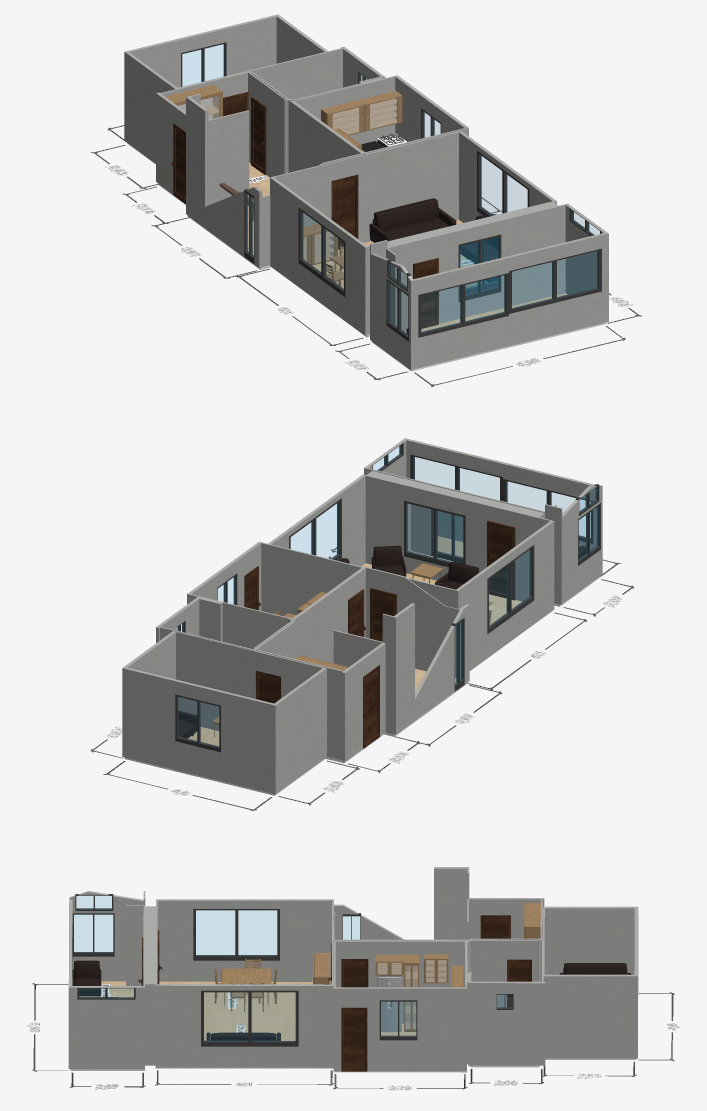
The model's file is zemin.glb.
3 renders of one model, top to bottom at view 1: azimuth 30°, elevation 25°; view 2: azimuth 150°, elevation 25°; view 3: azimuth 270°, elevation 25°, orthographic. The views are drawn at different scales.
Parts seen in each view (by area): view 1: Duvar (×21), wall_022 (×9), door_016 (×4), storage (×3), sofa (×2), styledPlanOverlay, Oda (×2); view 2: Duvar (×25), wall_022 (×9), door_016 (×5), styledPlanOverlay, sofa (×2), Oda (×2); view 3: Duvar (×17), wall_022 (×7), Oda (×3), door_016 (×4), storage (×5), sofa (×3), styledPlanOverlay, refrigerator, table.
Boxes of the visible parts, box(x1,y1,x2,y2) form: Duvar (×21): box(124, 14, 608, 369); wall_022 (×9): box(181, 42, 601, 341); door_016 (×4): box(171, 97, 439, 328); storage (×3): box(165, 85, 402, 265); sofa (×2): box(369, 198, 498, 263); styledPlanOverlay: box(90, 125, 642, 387); Oda (×2): box(158, 162, 606, 371); Duvar (×25): box(122, 438, 602, 794); wall_022 (×9): box(175, 454, 600, 752); door_016 (×5): box(255, 520, 515, 748); styledPlanOverlay: box(90, 547, 634, 810); sofa (×2): box(371, 545, 478, 589); Oda (×2): box(124, 563, 552, 795); Duvar (×17): box(68, 867, 638, 1071); wall_022 (×7): box(72, 894, 417, 1046); Oda (×3): box(70, 981, 466, 1072); door_016 (×4): box(341, 915, 531, 1071); storage (×5): box(312, 903, 540, 1031); sofa (×3): box(72, 960, 630, 1040); styledPlanOverlay: box(27, 983, 679, 1090); refrigerator: box(377, 975, 401, 1032); table: box(221, 968, 271, 1006).
Size of what is drawn, in the model's own units: 0.489 by 0.1796 by 0.9912.
25 materials, 16 textured.
